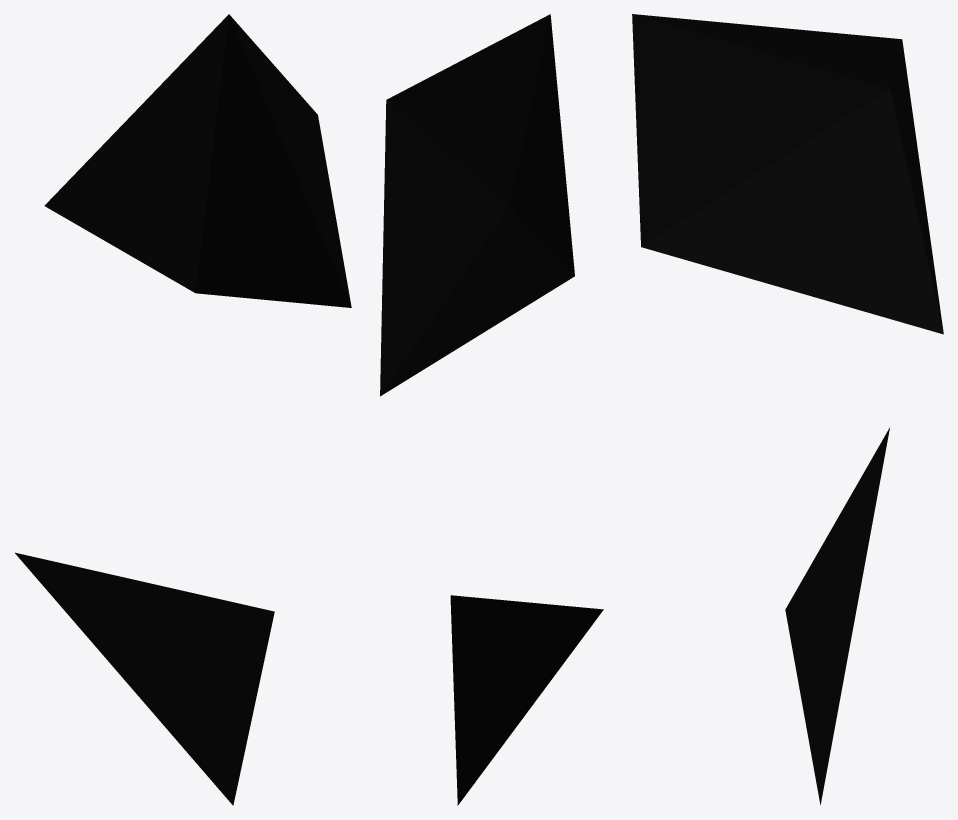
3 views of the same model, side by side, from view 1: azimuth 30°, elevation 25°; view 2: azimuth 150°, elevation 25°; view 3: azimuth 270°, elevation 25° (orthographic). The views are drawn at different scales.
Size of the model in its own units: 0.0141 by 0.0462 by 0.0166.
1 material, 1 textured.
